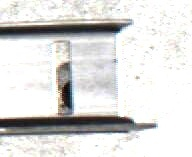40ngpress: (12, 19, 143, 132)
